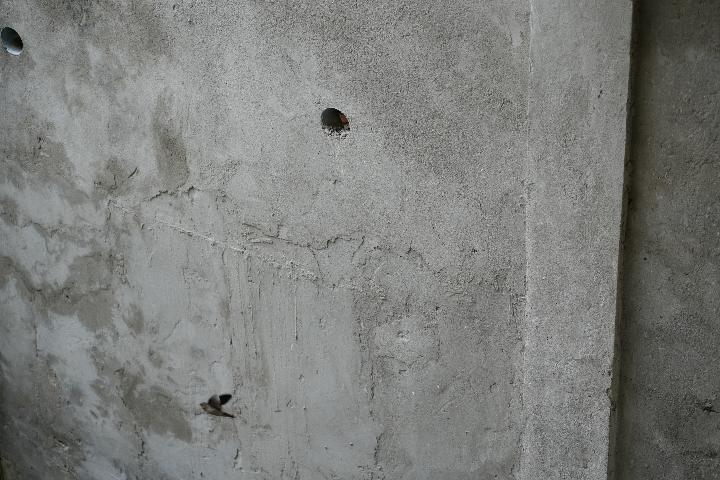walet: (196, 389, 244, 425)
